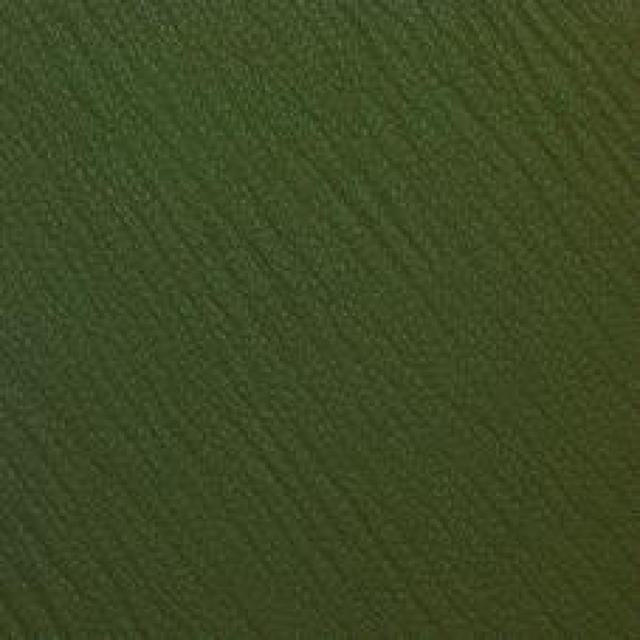Growth Marks: (92, 92, 301, 342), (428, 21, 616, 186)
